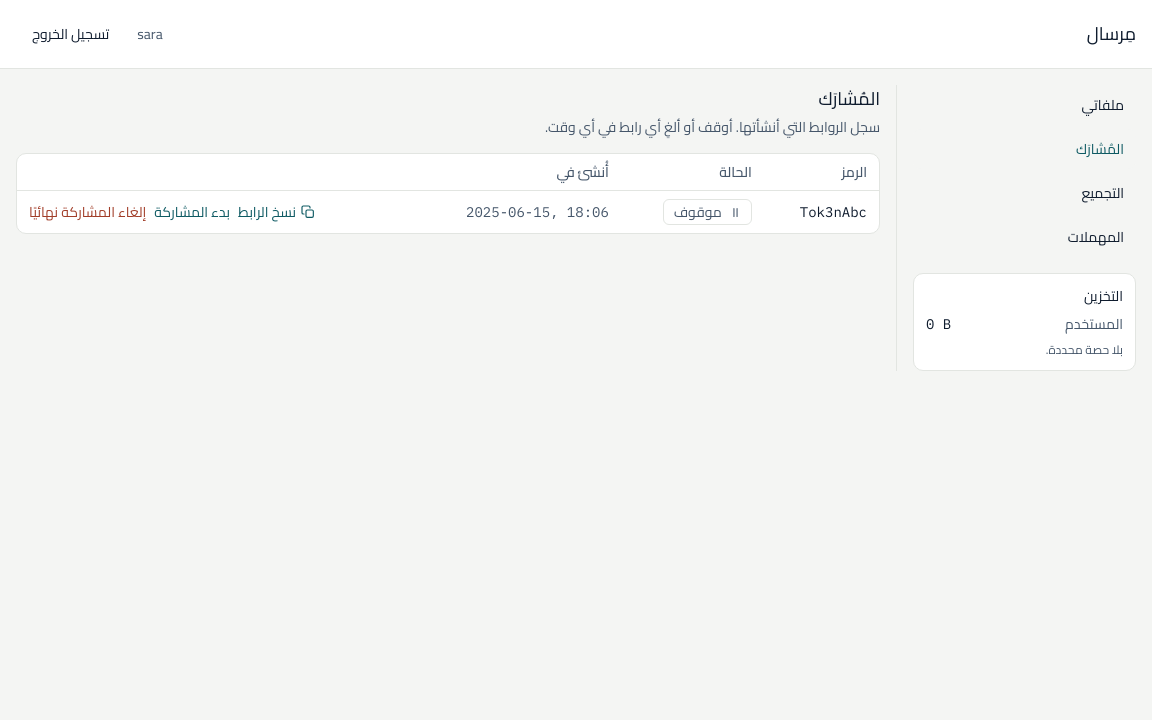
Test case: Shared register — quick-toggle reports the SERVER status (§3.3) › restarting a lapsed share from the register reports still-expired guidance, not a false "started"
Click the button "بدء المشاركة" at [192, 212], box 154,202 -> 230,222
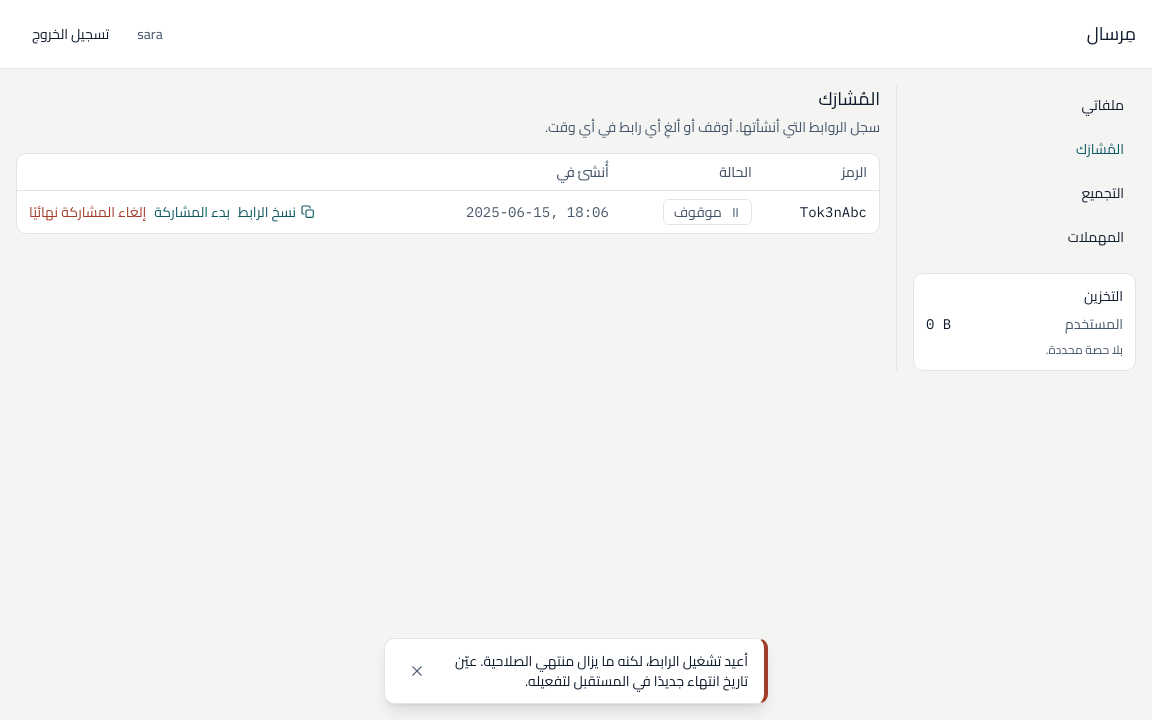
Expected: the text "أعيد تشغيل الرابط، لكنه ما يزال منتهي الصلاحية. عيّن تاريخ انتهاء جديدًا في المستقبل لتفعيله." is shown, 455,648 -> 748,694
